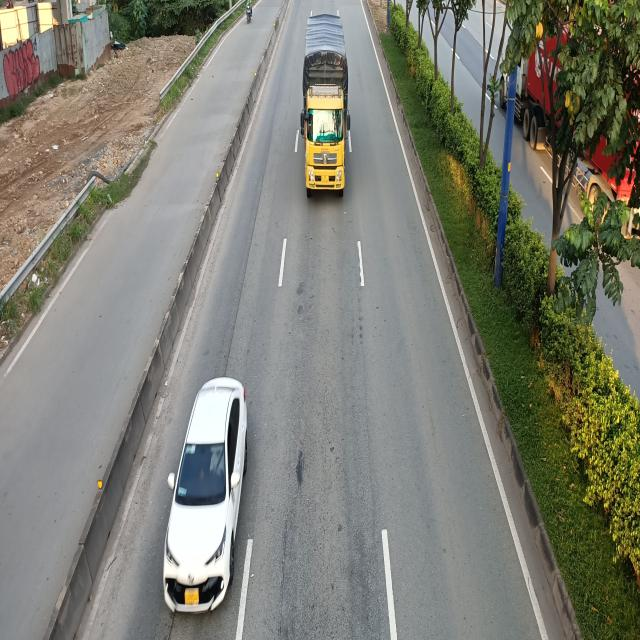car: (168, 381, 253, 635)
truck: (301, 13, 353, 198)
